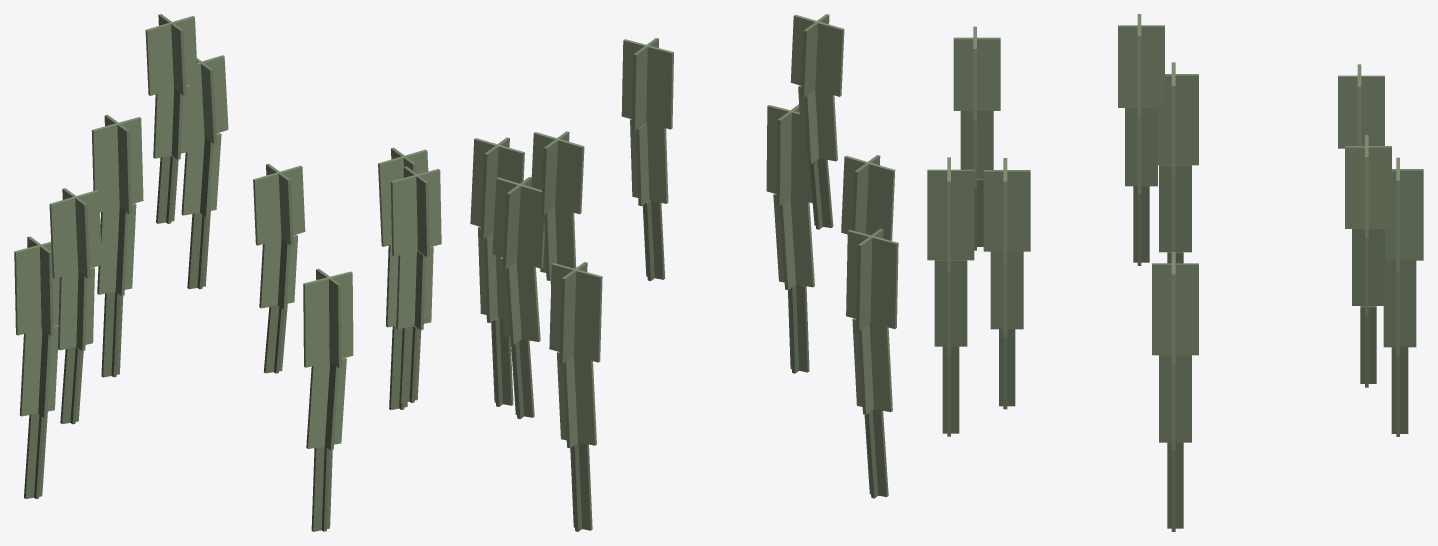
File: Facet_B.glb
3 views of the same model, side by side, from view 1: azimuth 30°, elevation 25°; view 2: azimuth 150°, elevation 25°; view 3: azimuth 270°, elevation 25° (orthographic). The views are drawn at different scales.
Visible parts, largest first — view 1: Knees; view 2: Knees; view 3: Knees.
Boxes of the visible parts, bbox=[...] form: Knees: bbox=[14, 14, 441, 531]; Knees: bbox=[470, 14, 898, 531]; Knees: bbox=[927, 14, 1423, 531].
Bounding box in the file's own units: 16.52 × 13.57 × 16.04.
